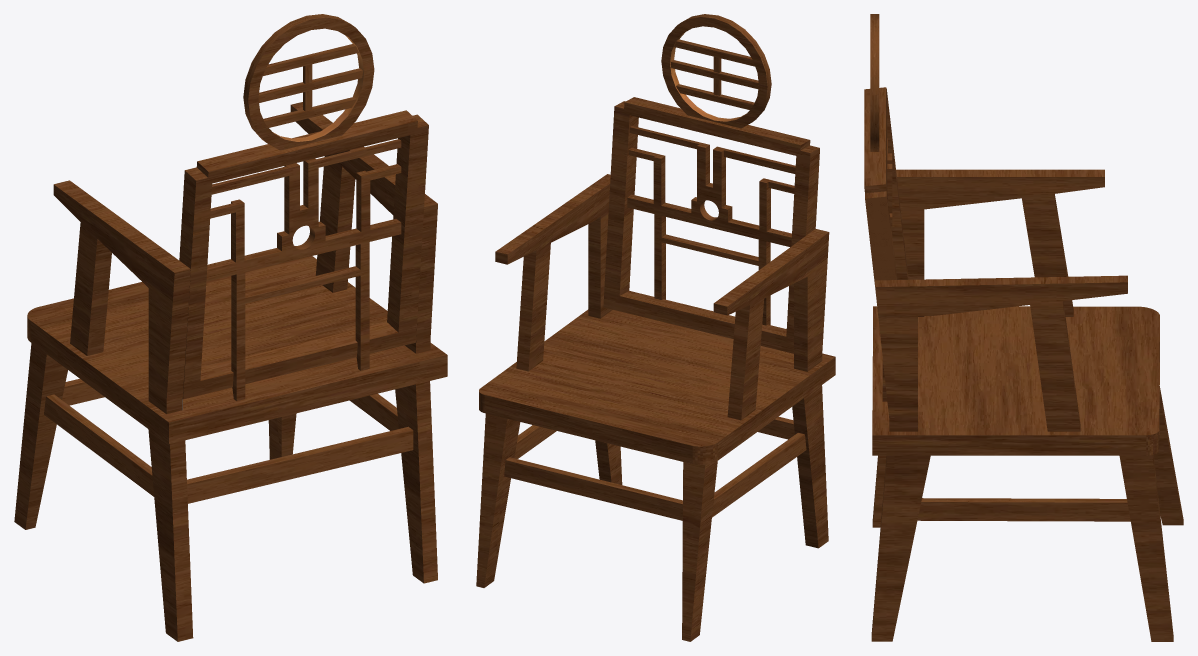
The model's file is fauteuil.glb.
The picture shows the model from 3 angles, left to right: view 1: azimuth 30°, elevation 25°; view 2: azimuth 150°, elevation 25°; view 3: azimuth 270°, elevation 25°; orthographic projection. The views are drawn at different scales.
Parts seen in each view (by area): view 1: Object_4, Object_16; view 2: Object_4; view 3: Object_4.
Boxes of the visible parts, x1,y1,x2,y2 form: Object_4: (14,14,447,641); Object_16: (273,35,363,141); Object_4: (476,14,835,641); Object_4: (864,14,1183,641).
Size of the model in its own units: 0.6532 by 1.33 by 0.6846.
3 materials, 2 textured.
